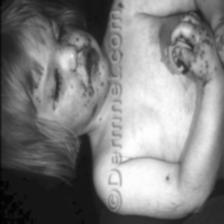Toxin: (79, 85, 94, 107), (214, 29, 224, 58), (186, 60, 194, 68)
